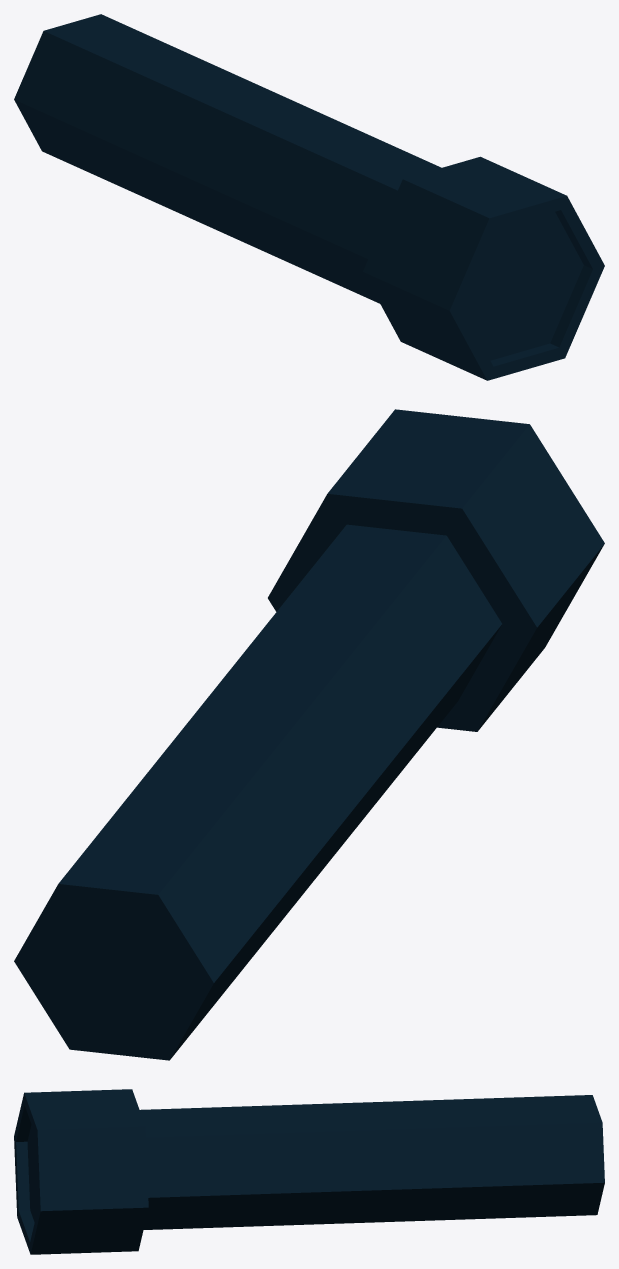
File: Flashlight.glb
3 renders of one model, top to bottom at view 1: azimuth 30°, elevation 25°; view 2: azimuth 150°, elevation 25°; view 3: azimuth 270°, elevation 25°, orthographic. The views are drawn at different scales.
Visible parts, largest first — view 1: Flashlight; view 2: Flashlight; view 3: Flashlight.
Part boxes in pixels (box(x1,y1,x2,y2)): Flashlight: box(14, 14, 604, 380); Flashlight: box(14, 409, 604, 1060); Flashlight: box(14, 1089, 604, 1254).
Bounding box in the file's own units: 0.1191 × 0.0758 × 0.2991.
Materials: 1 (1 with a texture image).
